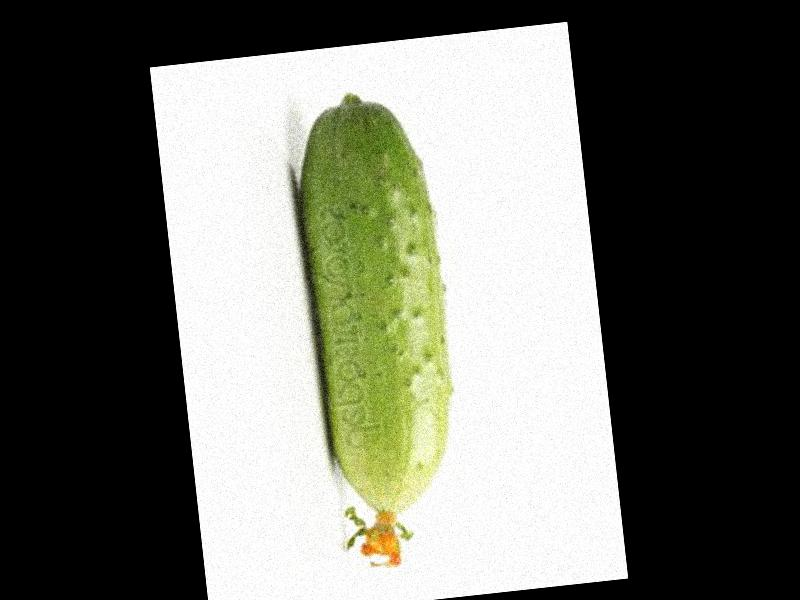Cucumber: (285, 84, 472, 570)
